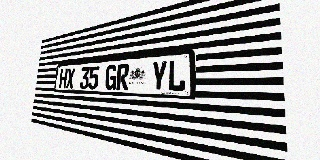3: (79, 67, 90, 89)
5: (88, 66, 99, 89)
G: (105, 64, 117, 90)
H: (59, 68, 68, 89)
L: (167, 59, 186, 92)
R: (116, 63, 130, 90)
X: (66, 68, 75, 89)
Y: (151, 60, 168, 91)
